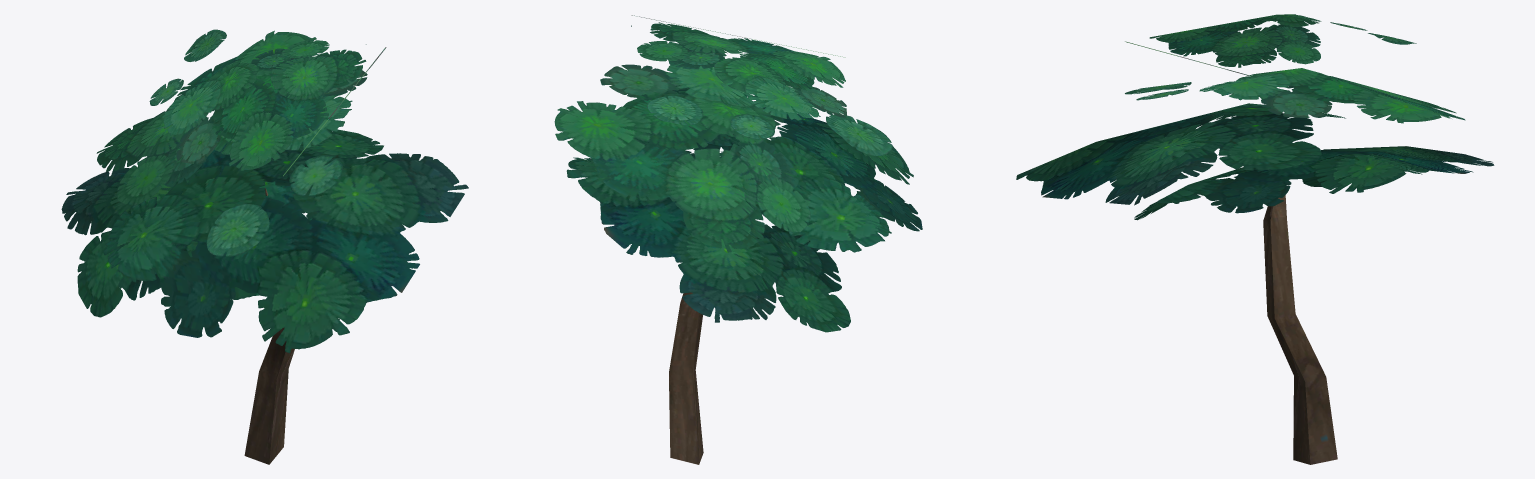
The model's file is map_111_shu_4.fbx.
3 renders of one model, left to right at view 1: azimuth 30°, elevation 25°; view 2: azimuth 150°, elevation 25°; view 3: azimuth 270°, elevation 25°, orthographic. The views are drawn at different scales.
Visible parts, largest first — view 1: map_111_shu_4; view 2: map_111_shu_4; view 3: map_111_shu_4.
Boxes of the visible parts, <box> form: map_111_shu_4: <box>61,29,468,464</box>; map_111_shu_4: <box>554,15,922,464</box>; map_111_shu_4: <box>1016,14,1494,464</box>.
Size of the model in its own units: 0.8083 by 0.8041 by 0.9113.
